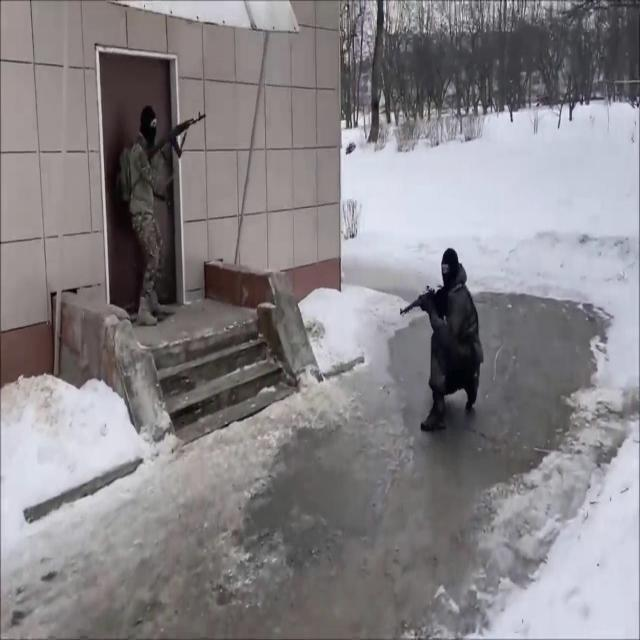gun: (118, 105, 206, 327), (400, 248, 484, 432), (146, 110, 207, 164), (400, 284, 444, 316)
